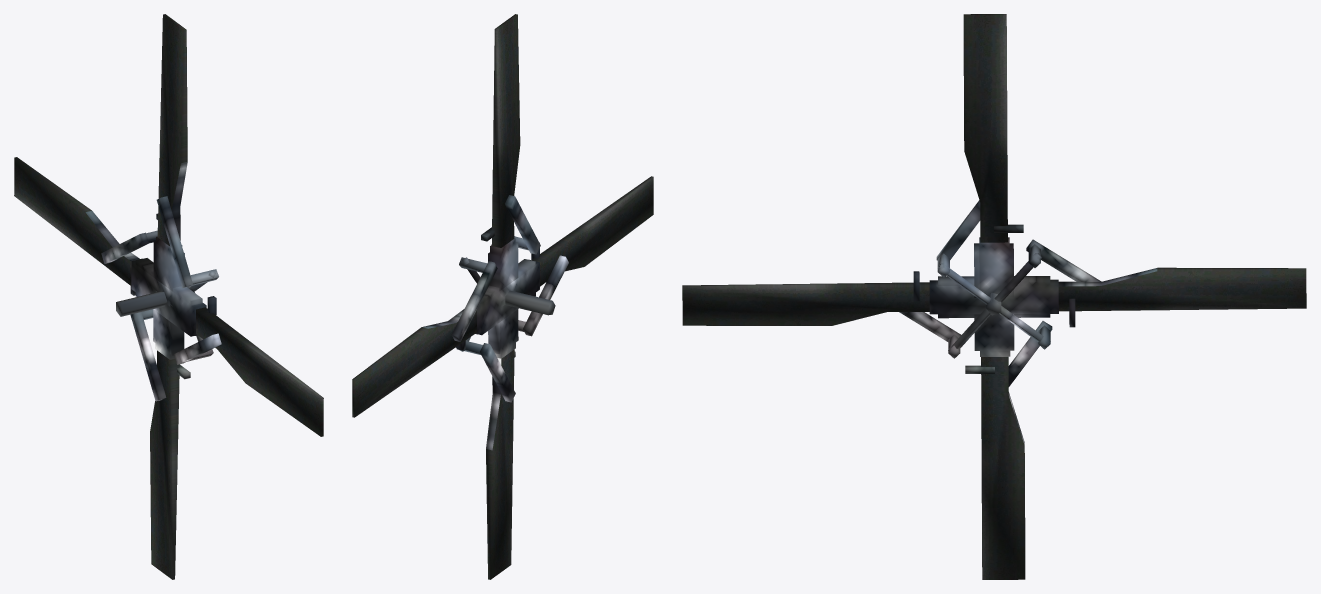
The model's file is protor.obj.
3 renders of one model, left to right at view 1: azimuth 30°, elevation 25°; view 2: azimuth 150°, elevation 25°; view 3: azimuth 270°, elevation 25°, orthographic. The views are drawn at different scales.
Bounding box in the file's own units: 0.3686 × 2.71 × 2.71.
1 material, 1 textured.
